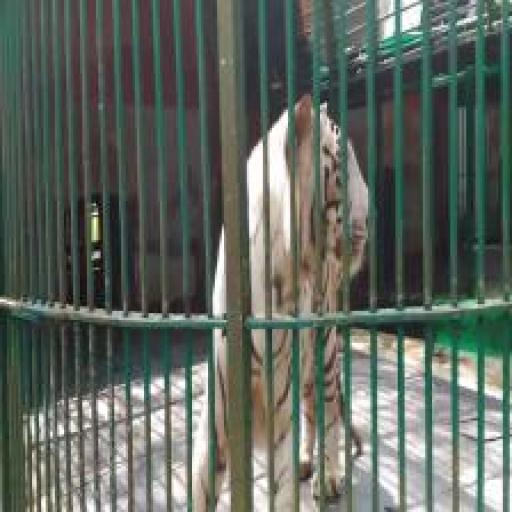Tiger: (190, 66, 382, 512)
